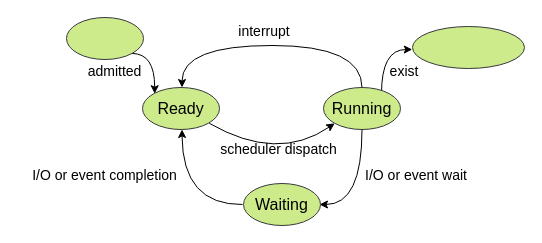
Some shapes in this 542 by 243 pixel diagram are drawn without their labels. Each missing label, with the box of its shape:
New: (66, 16, 144, 60)
Terminated: (412, 26, 524, 68)
